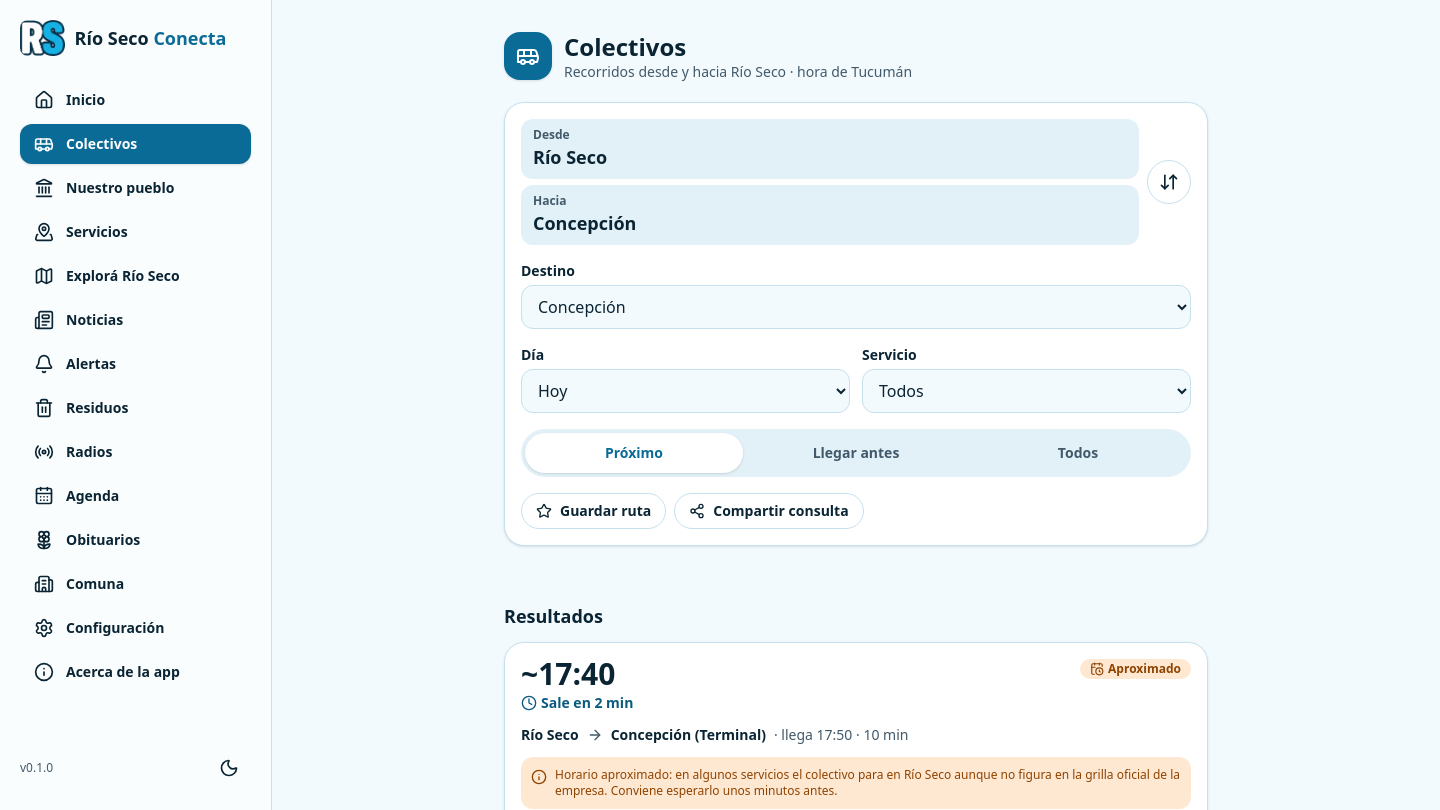
Test: colectivos › el botón invertir cambia origen y destino
Check: the heading "Resultados" is shown, box x1=504 y1=602 x2=603 y2=630
Click the button named "Invertir origen y destino": (1169, 182) x1=1147 y1=160 x2=1191 y2=204
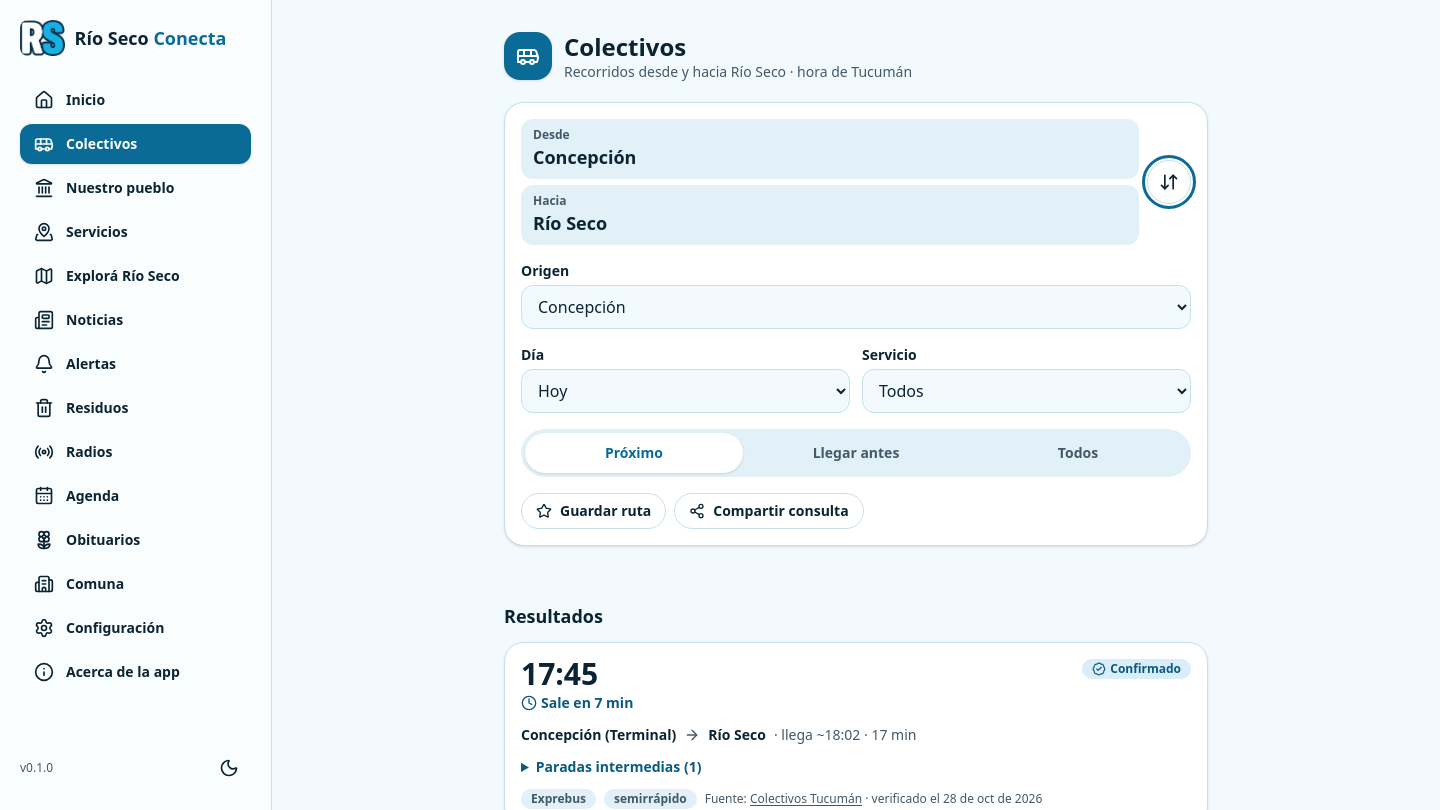
Check: the text "Concepción" is shown, box x1=533 y1=145 x2=636 y2=169
